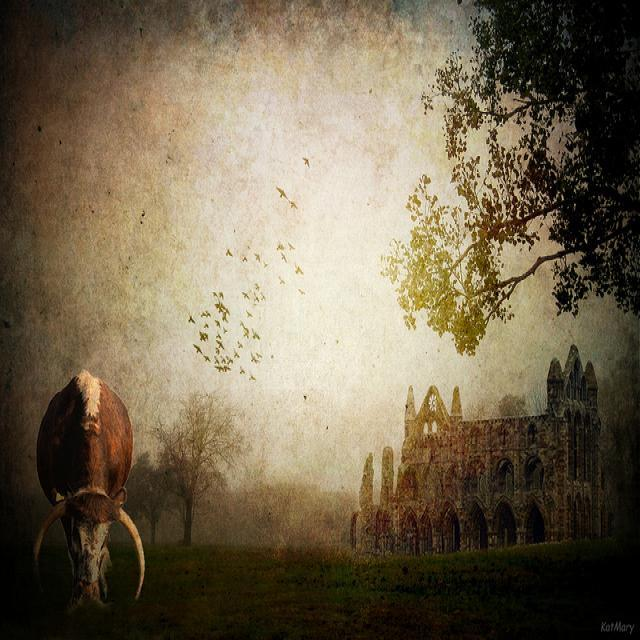cow: (30, 364, 147, 624)
